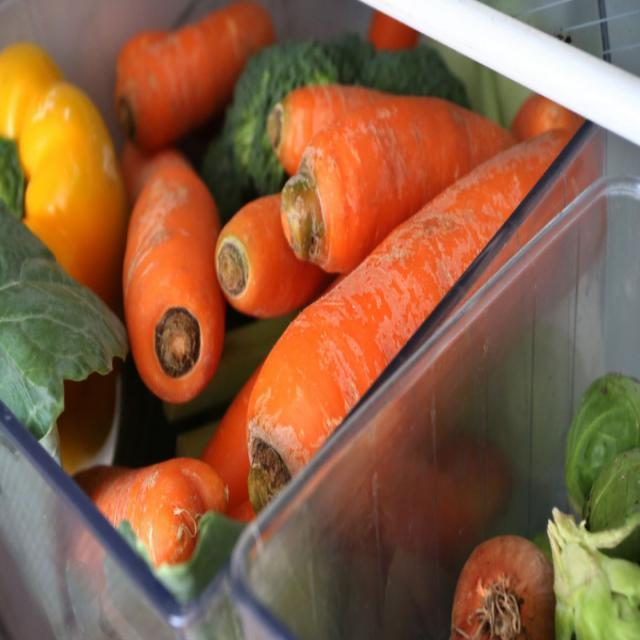carrot: (245, 120, 602, 520), (123, 129, 224, 402)
